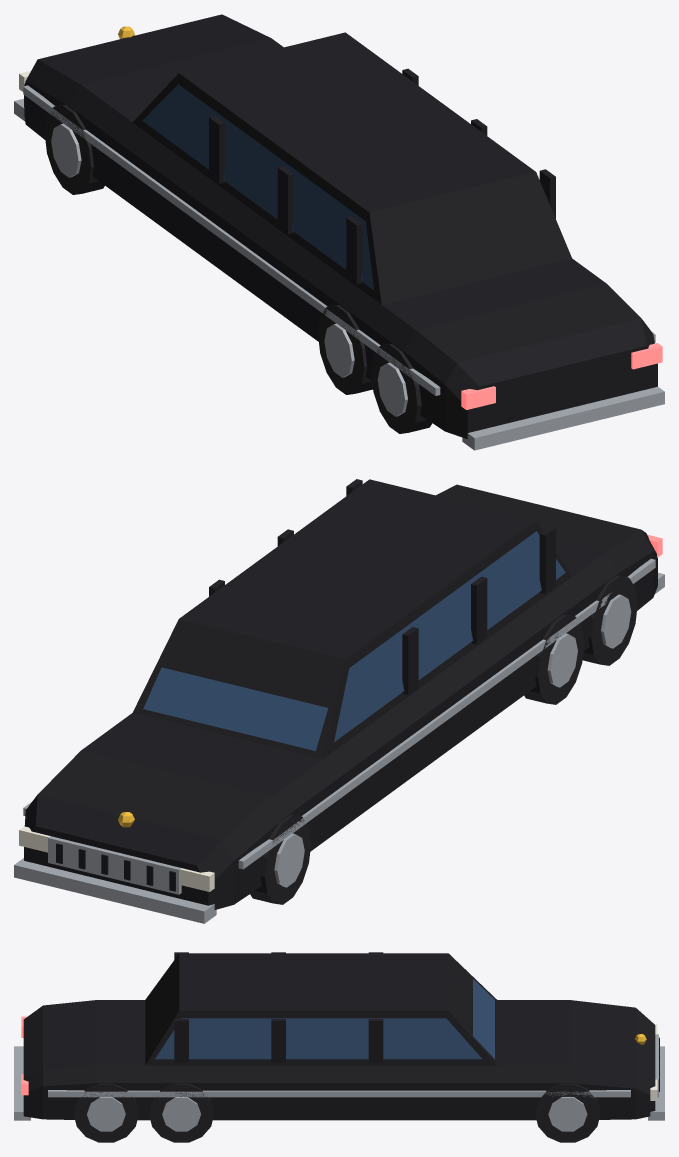
File: Limo.fbx
The picture shows the model from 3 angles, top to bottom: view 1: azimuth 30°, elevation 25°; view 2: azimuth 150°, elevation 25°; view 3: azimuth 270°, elevation 25°; orthographic projection. The views are drawn at different scales.
Visible parts, largest first — view 1: Limo_Black, Limo_Metal, Limo_GlassDark, Limo_Rubber, Limo_NeonRed; view 2: Limo_Black, Limo_GlassDark, Limo_Metal, Limo_Rubber, Limo_NeonWhite; view 3: Limo_Black, Limo_GlassDark, Limo_Metal, Limo_Rubber.
Boxes of the visible parts, x1,y1,x2,y2 form: Limo_Black: (24, 14, 657, 439); Limo_Metal: (14, 85, 664, 450); Limo_GlassDark: (142, 84, 374, 290); Limo_Rubber: (44, 105, 432, 433); Limo_NeonRed: (461, 343, 662, 409); Limo_Black: (24, 479, 657, 909); Limo_GlassDark: (143, 531, 565, 750); Limo_Metal: (14, 558, 664, 923); Limo_Rubber: (250, 575, 637, 904); Limo_NeonWhite: (19, 826, 214, 891); Limo_Black: (23, 952, 659, 1120); Limo_GlassDark: (155, 979, 494, 1059); Limo_Metal: (14, 1034, 664, 1131); Limo_Rubber: (73, 1083, 600, 1142).
Size of the model in its own units: 7.6 by 5.57 by 26.8.
